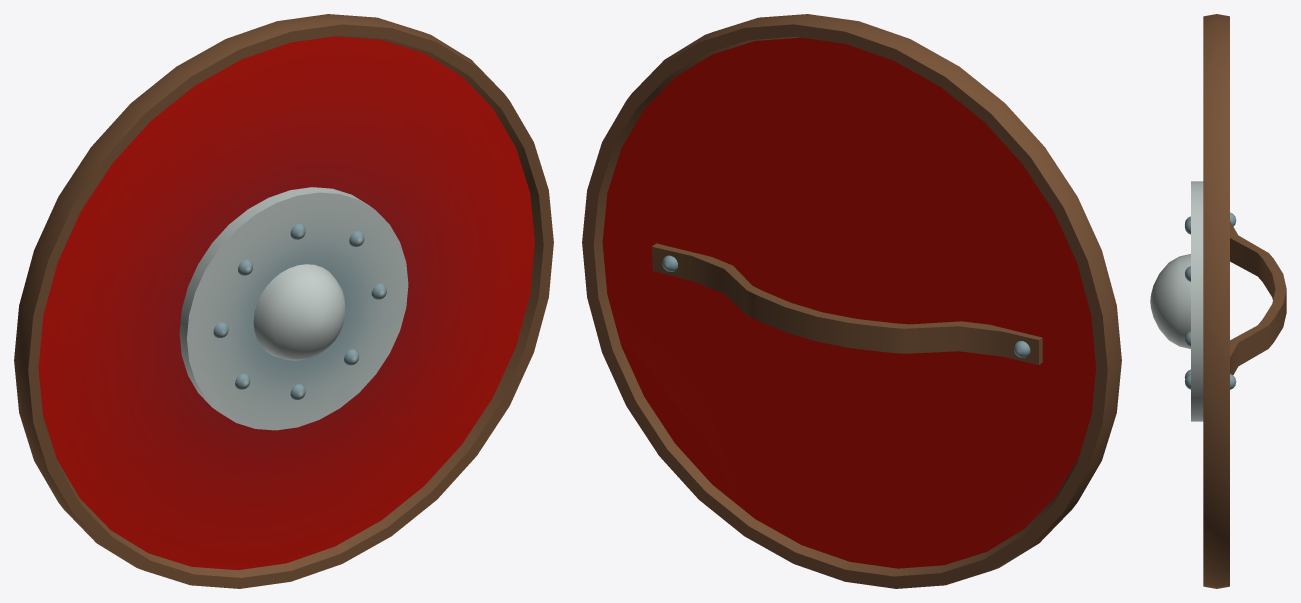
The model's file is Shield.fbx.
3 renders of one model, left to right at view 1: azimuth 30°, elevation 25°; view 2: azimuth 150°, elevation 25°; view 3: azimuth 270°, elevation 25°, orthographic. The views are drawn at different scales.
Visible parts, largest first — view 1: Shield; view 2: Shield; view 3: Shield.
Boxes of the visible parts, x1,y1,x2,y2 form: Shield: (14, 14, 553, 588); Shield: (582, 14, 1121, 588); Shield: (1150, 14, 1286, 588).
Bounding box in the file's own units: 32.94 × 32.94 × 7.81.
